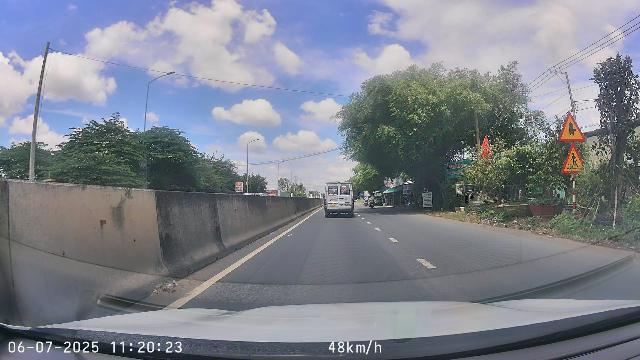207-giao-nhau-voi-duong-khong-uu-tien: (558, 112, 586, 142)
224-duong-nguoi-di-bo-cat-ngang: (562, 144, 585, 173)
